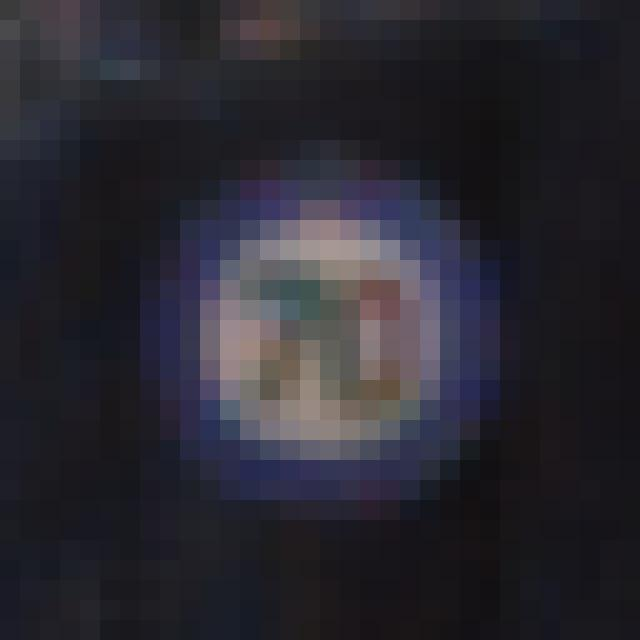SPEED LIMIT 70: (158, 171, 474, 488)
